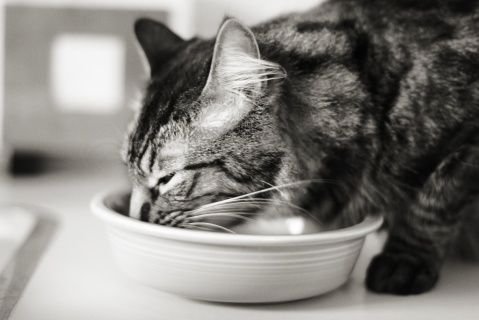Cat: (119, 0, 479, 295)
